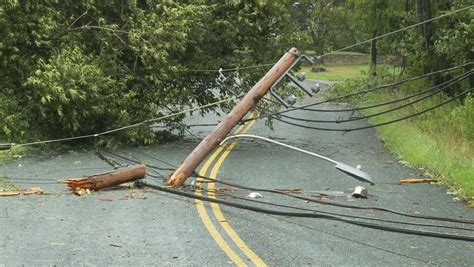pole: (170, 42, 313, 186)
